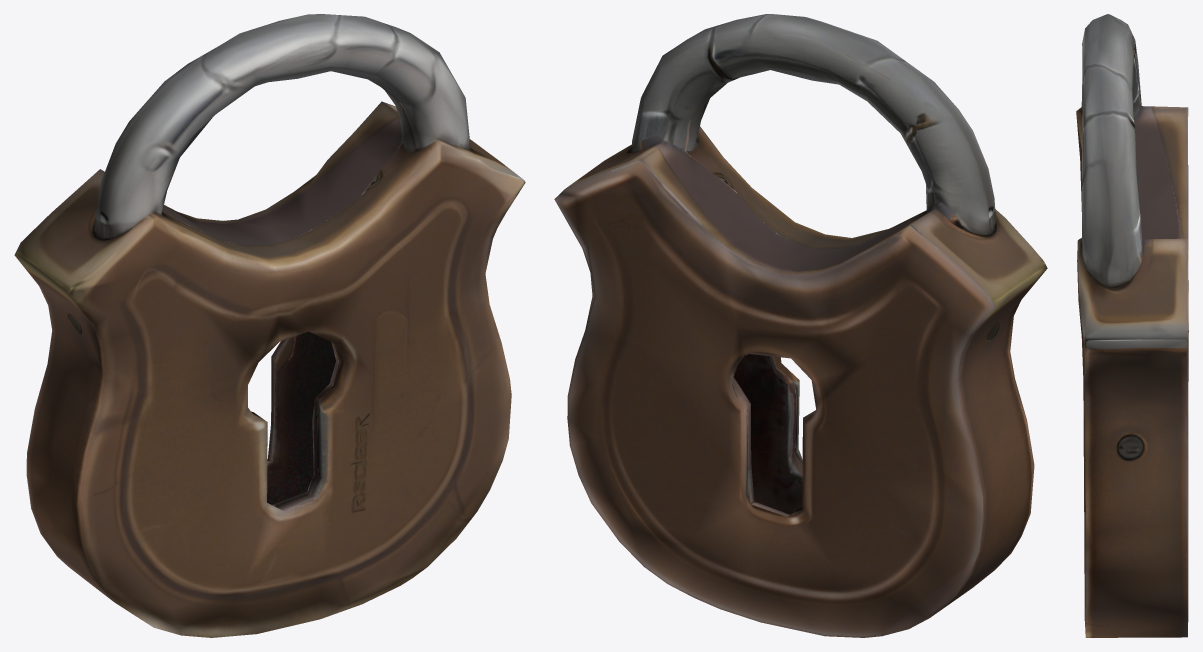
File: GateLock.fbx
3 views of the same model, side by side, from view 1: azimuth 30°, elevation 25°; view 2: azimuth 150°, elevation 25°; view 3: azimuth 270°, elevation 25° (orthographic). The views are drawn at different scales.
Parts seen in each view (by area): view 1: Mesh1.0; view 2: Mesh1.0; view 3: Mesh1.0.
Boxes of the visible parts, x1=… form: Mesh1.0: x1=14, y1=14, x2=525, y2=637; Mesh1.0: x1=554, y1=14, x2=1047, y2=637; Mesh1.0: x1=1076, y1=14, x2=1188, y2=637.
Size of the model in its own units: 222 by 276 by 50.
1 material, 1 textured.
